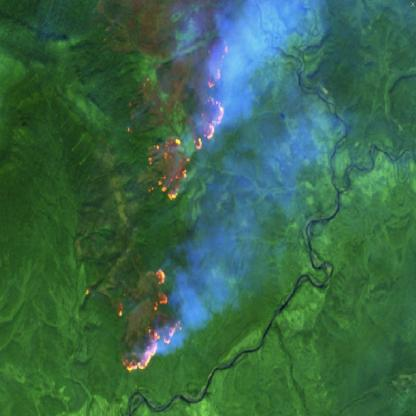fire: (142, 43, 232, 202), (116, 266, 188, 378)
